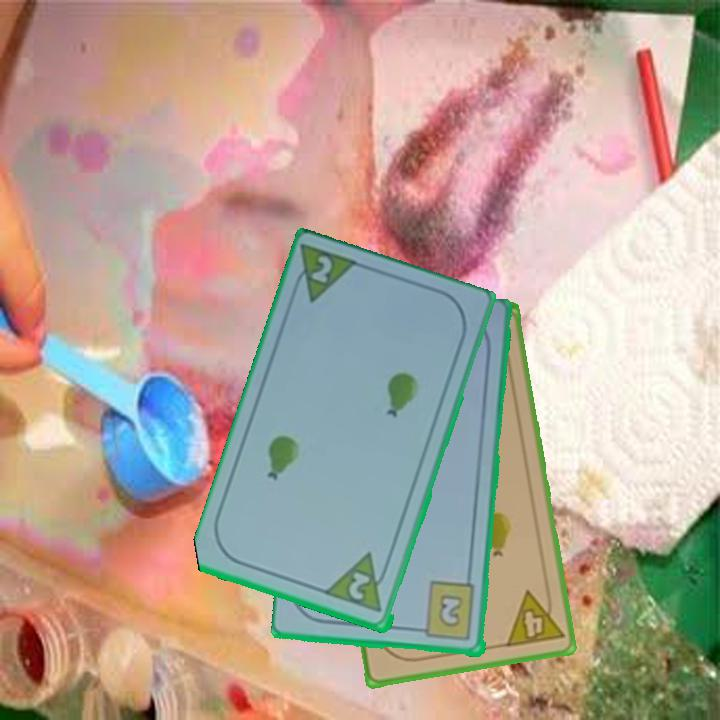2b: (413, 579, 478, 643)
2p: (287, 242, 364, 307), (324, 550, 394, 616)
4p: (502, 584, 567, 650)
